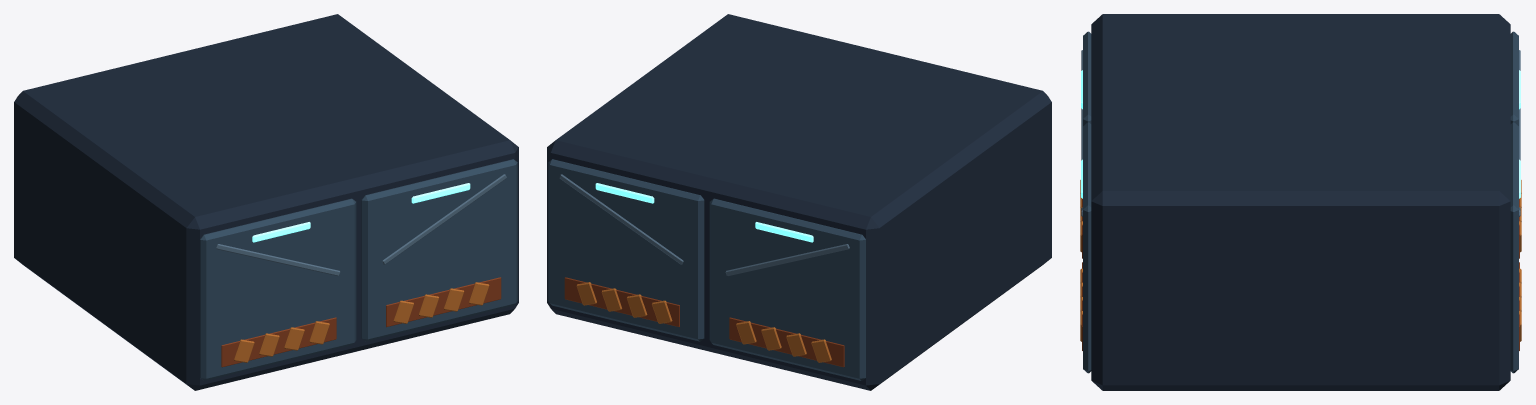
Rendered from frost_gate.glb.
3 renders of one model, left to right at view 1: azimuth 30°, elevation 25°; view 2: azimuth 150°, elevation 25°; view 3: azimuth 270°, elevation 25°, orthographic. The views are drawn at different scales.
Parts seen in each view (by area): view 1: frost_gate; view 2: frost_gate; view 3: frost_gate.
Boxes of the visible parts, <box> form: frost_gate: <box>14,14,518,390</box>; frost_gate: <box>547,14,1051,390</box>; frost_gate: <box>1080,14,1521,390</box>.
Bounding box in the file's own units: 2 × 1 × 2.
